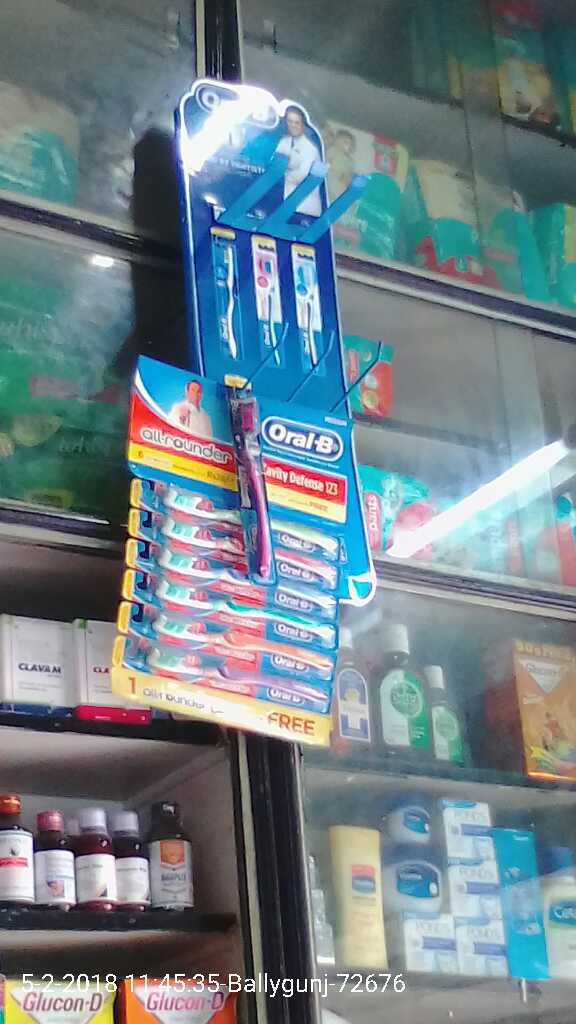oralb: (235, 392, 284, 591)
